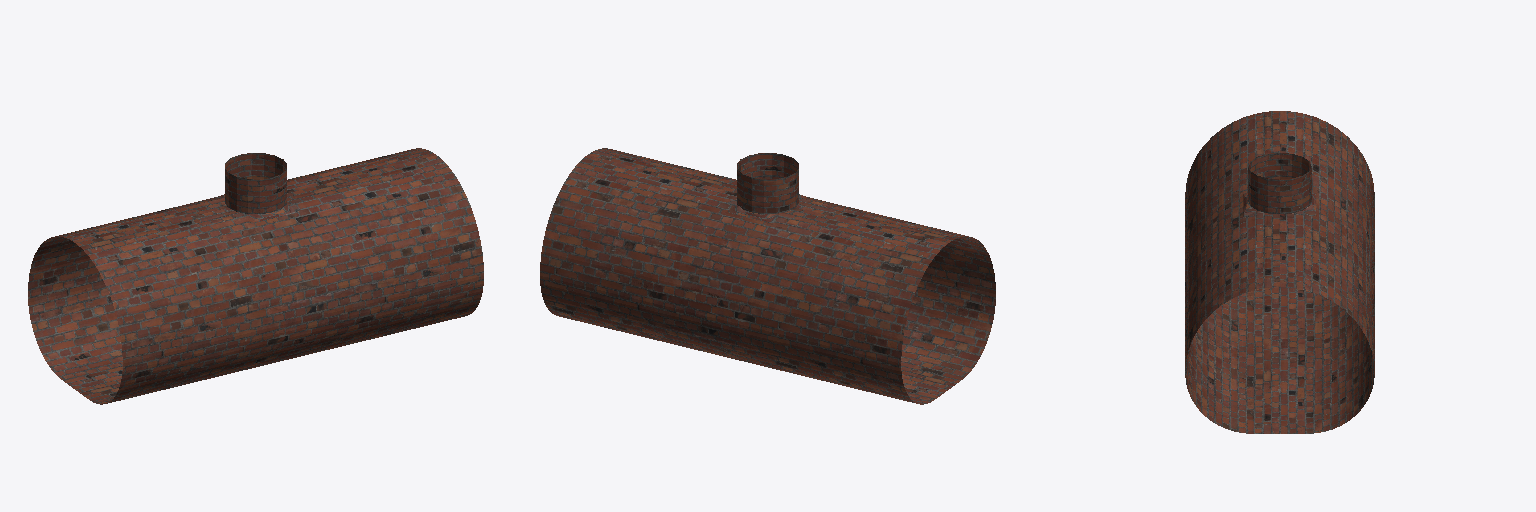
3 renders of one model, left to right at view 1: azimuth 30°, elevation 25°; view 2: azimuth 150°, elevation 25°; view 3: azimuth 270°, elevation 25°, orthographic.
Parts seen in each view (by area): view 1: kanal_1.001_CUBezierCurve.000; view 2: kanal_1.001_CUBezierCurve.000; view 3: kanal_1.001_CUBezierCurve.000.
Part boxes in pixels (bbox=[...]): kanal_1.001_CUBezierCurve.000: bbox=[28, 148, 483, 404]; kanal_1.001_CUBezierCurve.000: bbox=[540, 148, 995, 404]; kanal_1.001_CUBezierCurve.000: bbox=[1185, 111, 1374, 433].
Size of the model in its own units: 8.79 by 4.18 by 4.
1 materials, 1 textured.